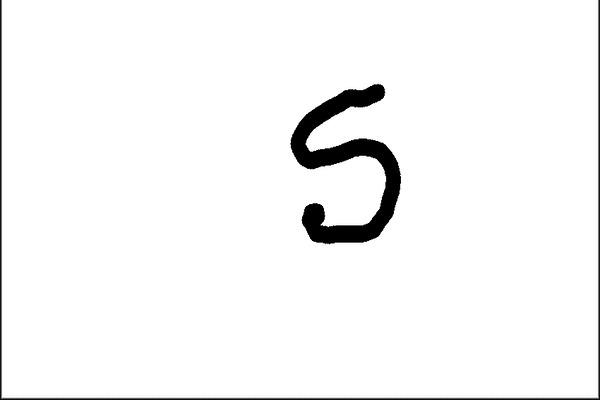S: (283, 79, 402, 246)
